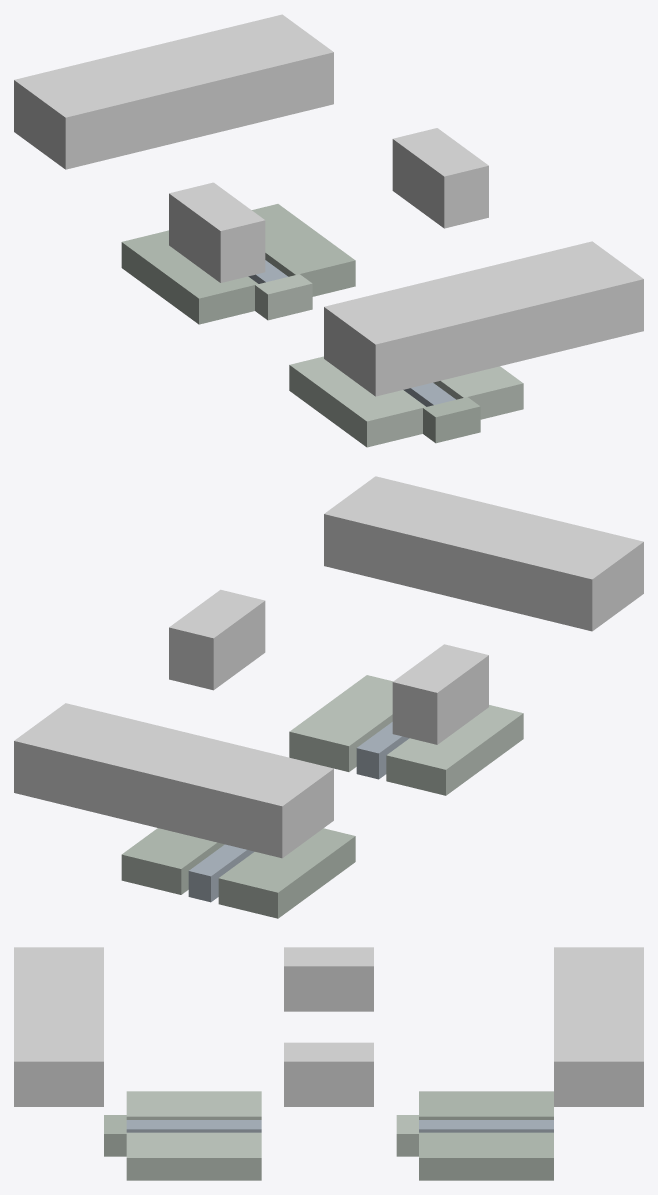
File: board.glb
3 renders of one model, top to bottom at view 1: azimuth 30°, elevation 25°; view 2: azimuth 150°, elevation 25°; view 3: azimuth 270°, elevation 25°, orthographic. The views are drawn at different scales.
Parts seen in each view (by area): view 1: Unified_Net_3_Contour_0, Unified_Net_4_Contour_0, Unified_Net_1_Contour_0, Unified_Net_2_Contour_0, Substrate_Layer_5_Z0, Substrate_Layer_1_Z0, Substrate_Layer_2_Z0, Substrate_Layer_6_Z0, Substrate_Layer_7_Z0, Substrate_Layer_3_Z0, Substrate_Layer_4_Z0; view 2: Unified_Net_4_Contour_0, Unified_Net_3_Contour_0, Unified_Net_1_Contour_0, Unified_Net_2_Contour_0, Substrate_Layer_1_Z0, Substrate_Layer_5_Z0, Substrate_Layer_6_Z0, Substrate_Layer_2_Z0, Substrate_Layer_0_Z0, Substrate_Layer_4_Z0; view 3: Unified_Net_3_Contour_0, Unified_Net_4_Contour_0, Substrate_Layer_6_Z0, Substrate_Layer_2_Z0, Unified_Net_1_Contour_0, Unified_Net_2_Contour_0, Substrate_Layer_5_Z0, Substrate_Layer_1_Z0, Substrate_Layer_4_Z0, Substrate_Layer_0_Z0, Substrate_Layer_7_Z0, Substrate_Layer_3_Z0.
Part boxes in pixels (x1,y1,x2,y2): Unified_Net_3_Contour_0: [324, 241, 643, 396]; Unified_Net_4_Contour_0: [14, 14, 333, 169]; Unified_Net_1_Contour_0: [169, 182, 265, 282]; Unified_Net_2_Contour_0: [392, 128, 488, 228]; Substrate_Layer_5_Z0: [289, 356, 425, 447]; Substrate_Layer_1_Z0: [121, 230, 257, 324]; Substrate_Layer_2_Z0: [252, 204, 355, 296]; Substrate_Layer_6_Z0: [433, 366, 523, 419]; Substrate_Layer_7_Z0: [423, 397, 480, 443]; Substrate_Layer_3_Z0: [255, 274, 312, 320]; Substrate_Layer_4_Z0: [403, 382, 455, 406]; Unified_Net_4_Contour_0: [14, 703, 333, 858]; Unified_Net_3_Contour_0: [324, 476, 643, 631]; Unified_Net_1_Contour_0: [392, 644, 488, 744]; Unified_Net_2_Contour_0: [169, 589, 265, 690]; Substrate_Layer_1_Z0: [218, 828, 355, 918]; Substrate_Layer_5_Z0: [386, 705, 523, 795]; Substrate_Layer_6_Z0: [289, 675, 392, 771]; Substrate_Layer_2_Z0: [121, 828, 224, 894]; Substrate_Layer_0_Z0: [188, 844, 254, 902]; Substrate_Layer_4_Z0: [356, 722, 409, 779]; Unified_Net_3_Contour_0: [14, 947, 103, 1106]; Unified_Net_4_Contour_0: [554, 947, 643, 1106]; Substrate_Layer_6_Z0: [126, 1132, 261, 1180]; Substrate_Layer_2_Z0: [419, 1132, 553, 1180]; Unified_Net_1_Contour_0: [284, 947, 373, 1011]; Unified_Net_2_Contour_0: [284, 1042, 373, 1106]; Substrate_Layer_5_Z0: [126, 1091, 261, 1119]; Substrate_Layer_1_Z0: [419, 1091, 553, 1119]; Substrate_Layer_4_Z0: [126, 1120, 261, 1132]; Substrate_Layer_0_Z0: [419, 1120, 553, 1132]; Substrate_Layer_7_Z0: [104, 1115, 126, 1156]; Substrate_Layer_3_Z0: [396, 1115, 418, 1156].
Bounding box in the file's own units: 2.16e-06 × 1.26e-06 × 5.04e-06.
